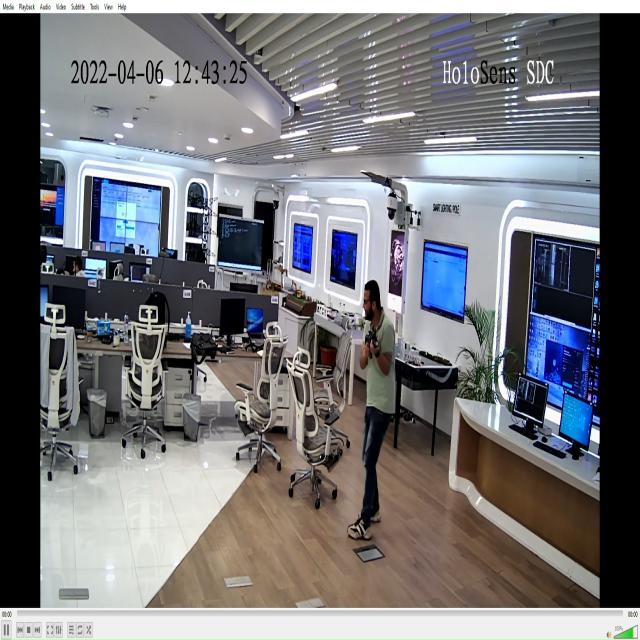long weapon: (355, 326, 390, 368)
